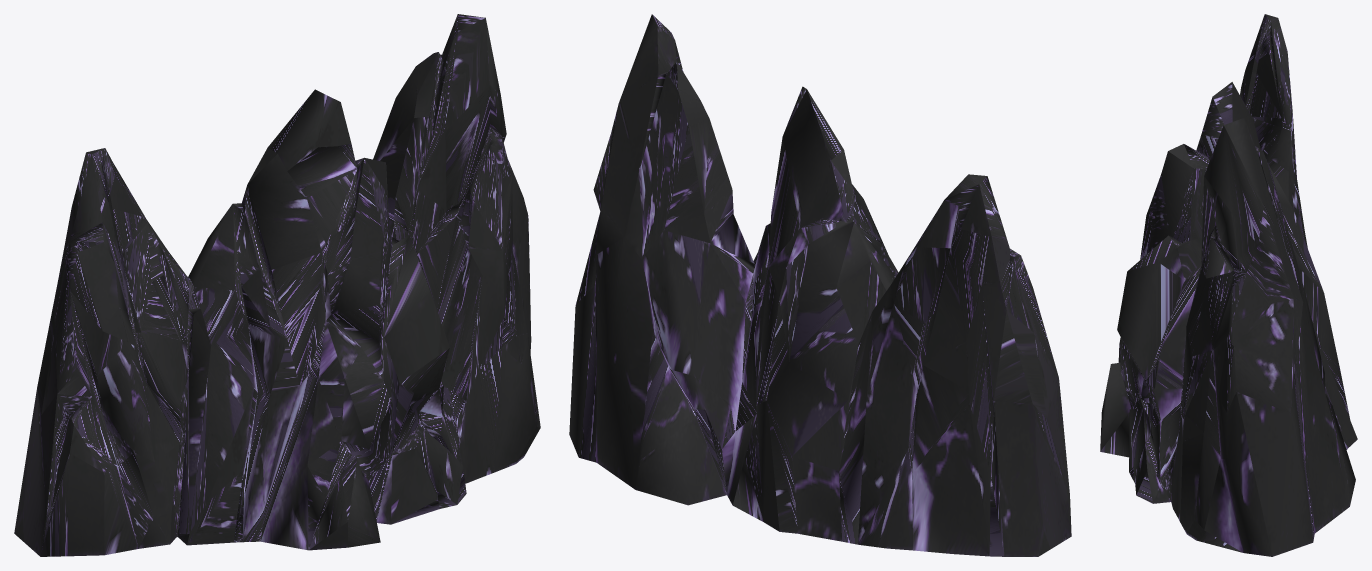
The model's file is cover_half_caves_v6_lod1.glb.
3 renders of one model, left to right at view 1: azimuth 30°, elevation 25°; view 2: azimuth 150°, elevation 25°; view 3: azimuth 270°, elevation 25°, orthographic. The views are drawn at different scales.
Parts seen in each view (by area): view 1: Mesh_0; view 2: Mesh_0; view 3: Mesh_0.
Boxes of the visible parts, x1=… form: Mesh_0: x1=14, y1=14, x2=540, y2=556; Mesh_0: x1=569, y1=14, x2=1071, y2=556; Mesh_0: x1=1100, y1=14, x2=1357, y2=556.
Bounding box in the file's own units: 0.96 × 0.8 × 0.4587.
Materials: 1 (1 with a texture image).
